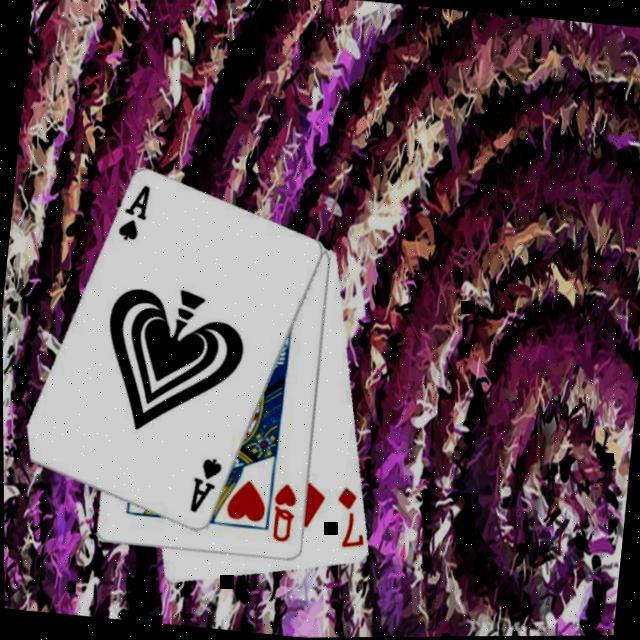7D: (330, 485, 370, 554)
AS: (116, 181, 154, 248), (188, 456, 225, 520)
QH: (267, 482, 302, 549)
